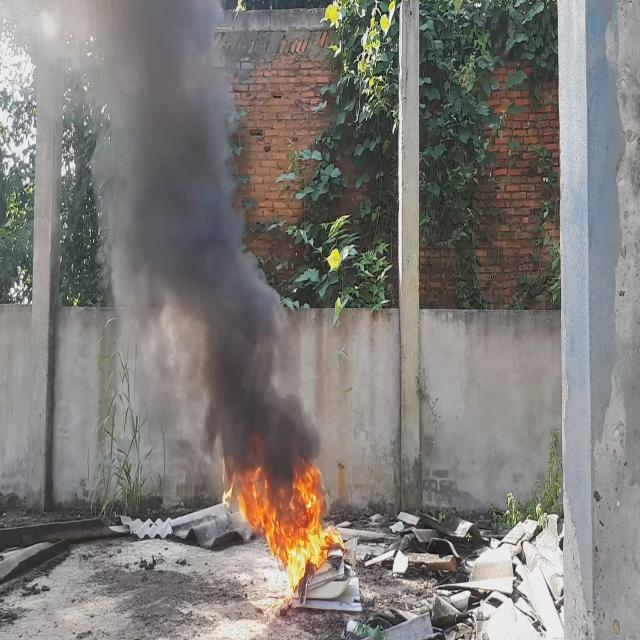Fire: (238, 457, 342, 591)
Smoke: (0, 0, 324, 495)
